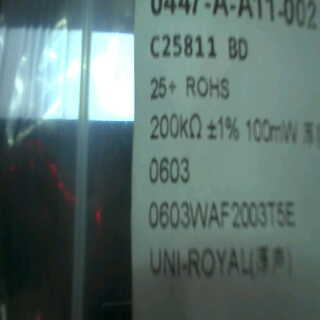200kR: (146, 105, 206, 144)
